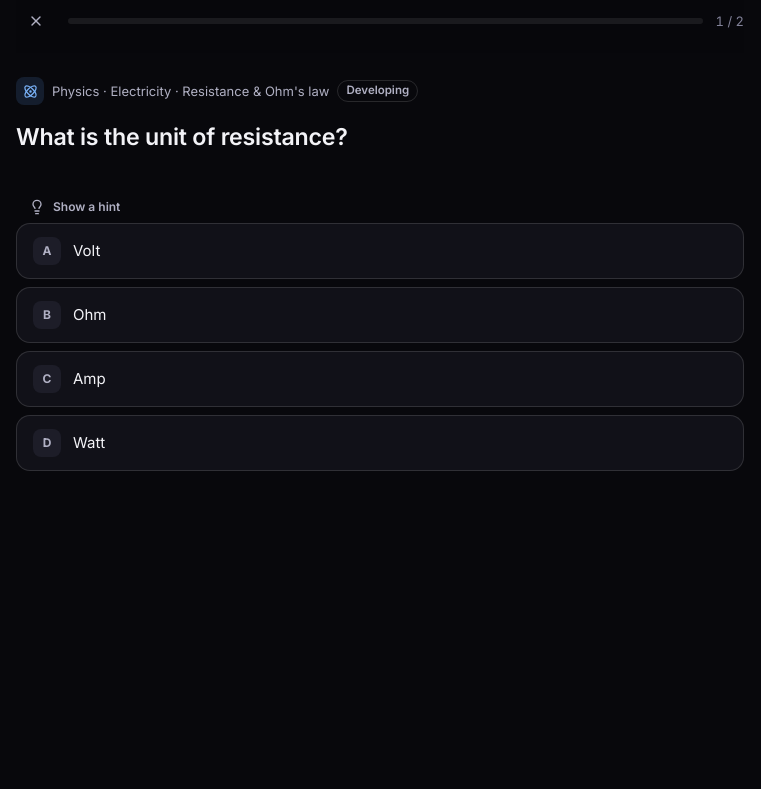
Test case: Practice session › labels a skill practised for the first time as new instead of showing a gain
The image size is (761, 789).
Click the button "A Volt". click: {"x": 47, "y": 251}
box: 16,223 -> 744,279
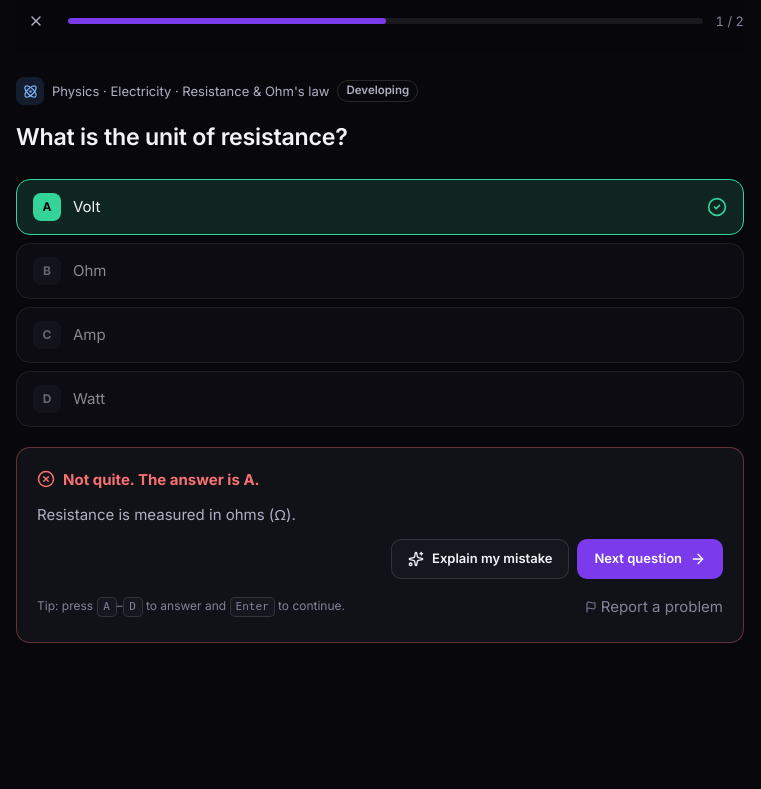
Click the button "Next question". click: {"x": 650, "y": 559}
box: 578,539 -> 723,579
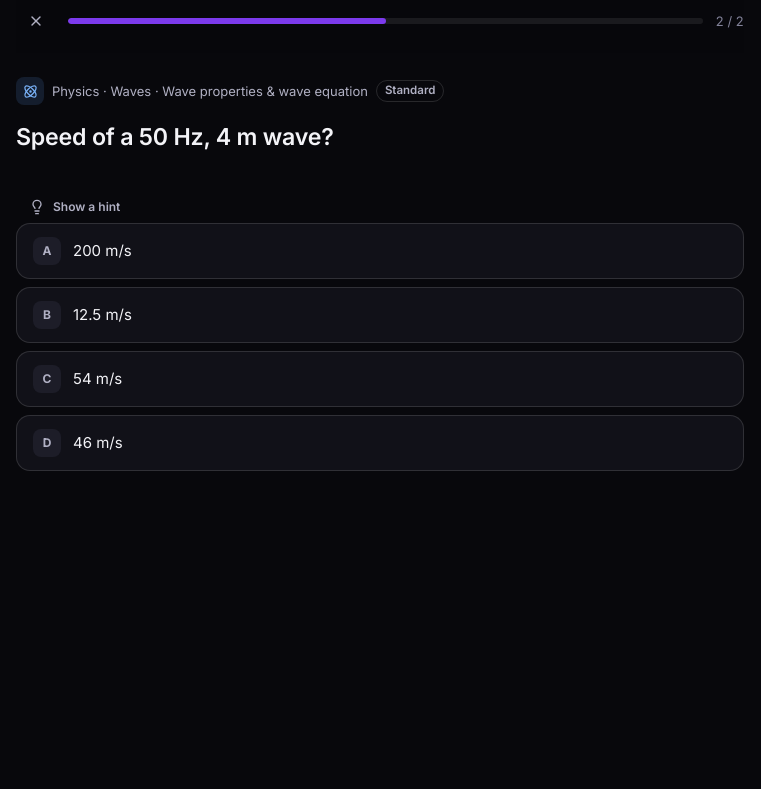
Click the button "A 200 m/s". click: {"x": 102, "y": 250}
box: 16,223 -> 744,279
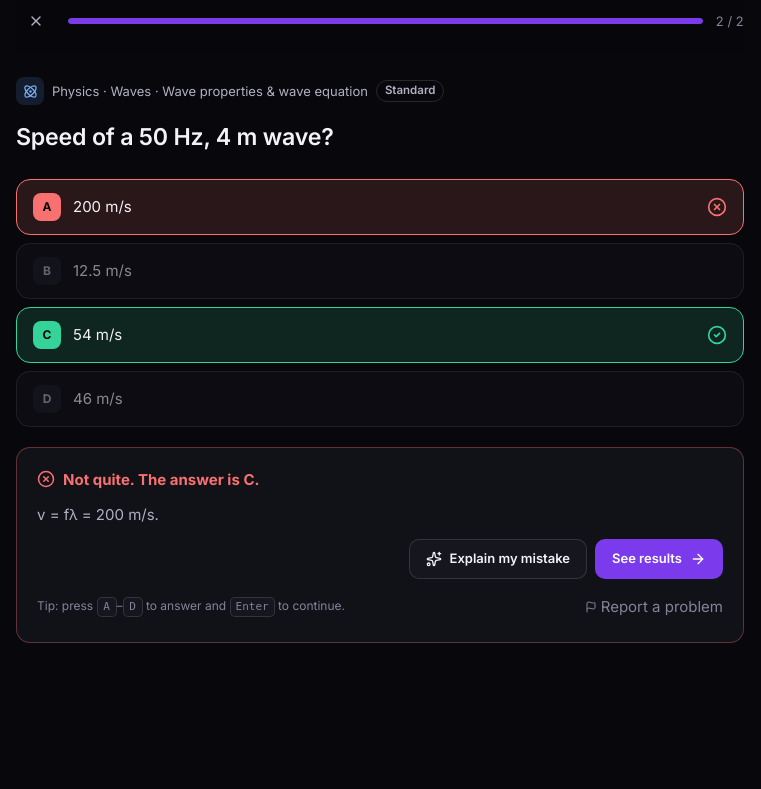
Click the button "See results". click: {"x": 659, "y": 559}
box: 595,539 -> 723,579
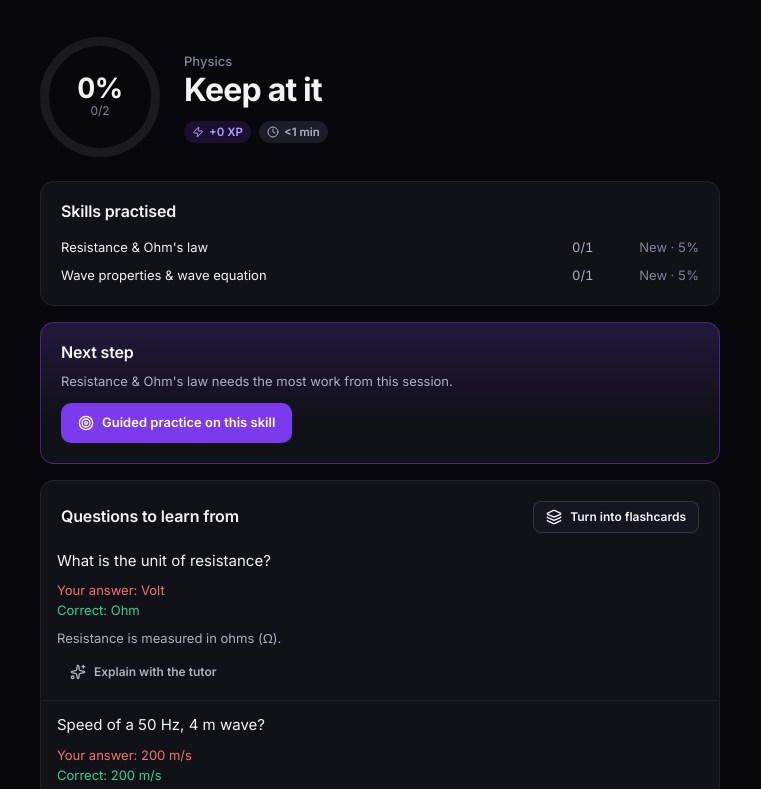
Check: the heading "Skills practised" is shown, box 61,201 -> 176,221
Check: the text named "New skill, mastery 5%" is shown, box 639,239 -> 699,255
